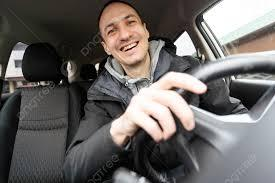Awake: (92, 2, 156, 69)
